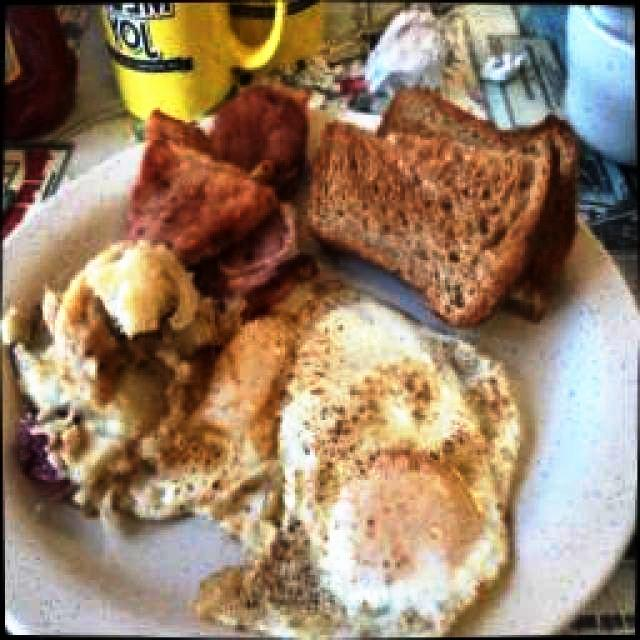fried_eggs: (191, 298, 521, 640)
